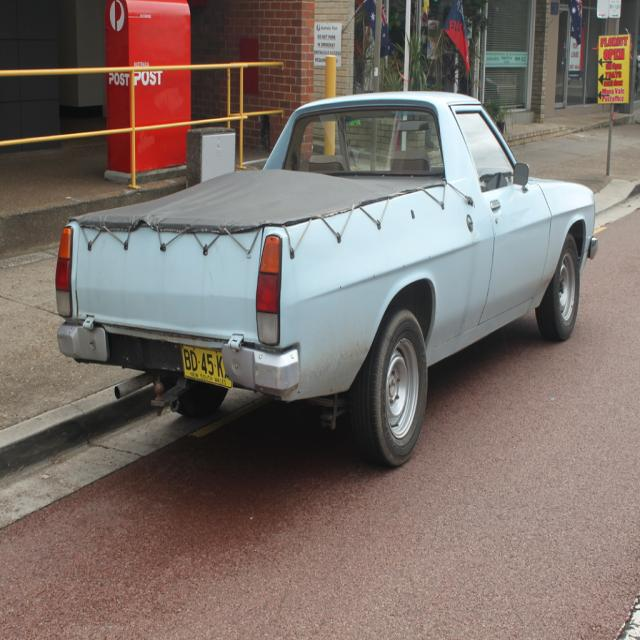car: (60, 94, 583, 472)
